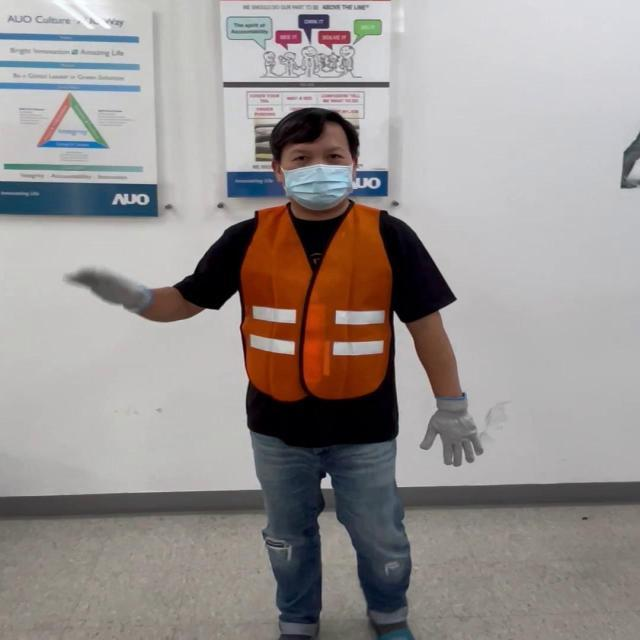gloved_hand: (419, 392, 490, 466), (74, 268, 153, 324)
